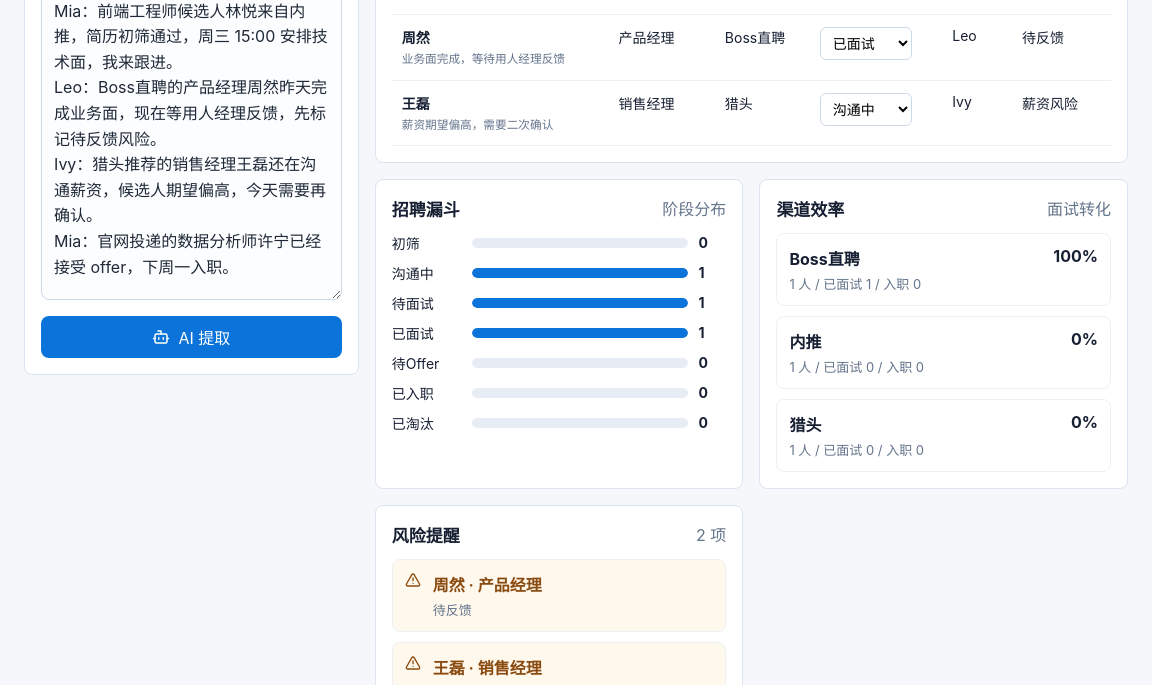
App › shows API errors returned by extraction endpoint
The image size is (1152, 685).
(page scrolled)
Click the button "AI 提取": click(191, 337) [41, 316, 342, 358]
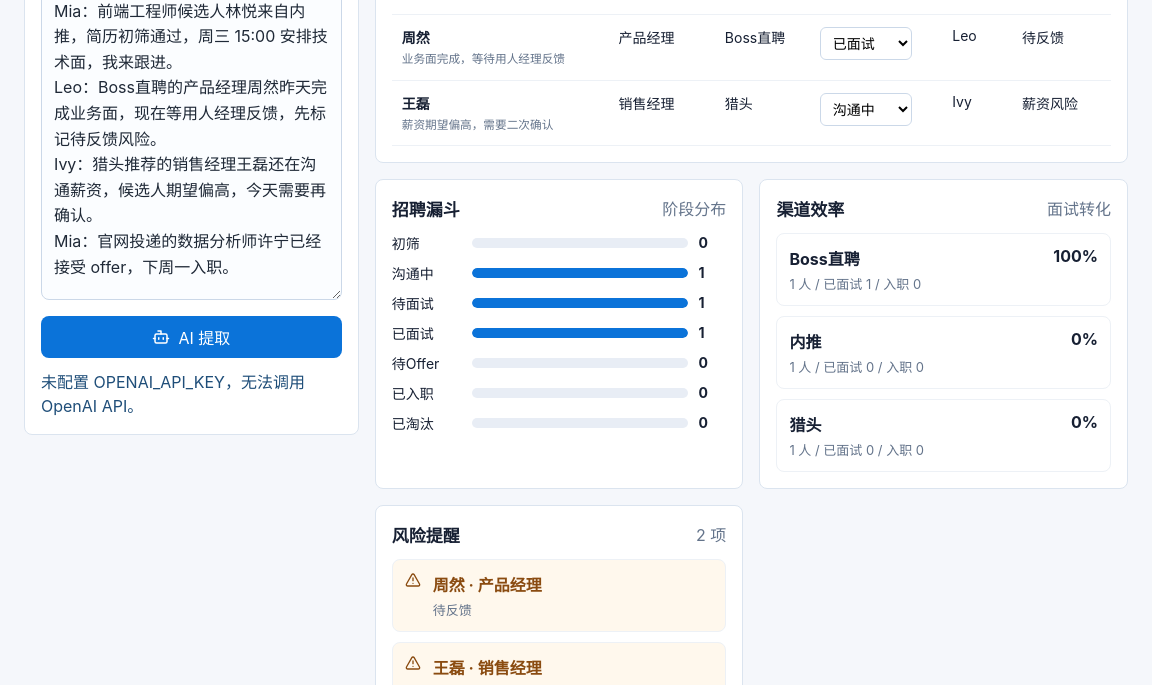
Expected: the text "未配置 OPENAI_API_KEY，无法调用 OpenAI API。" is shown, [41, 370, 342, 418]
